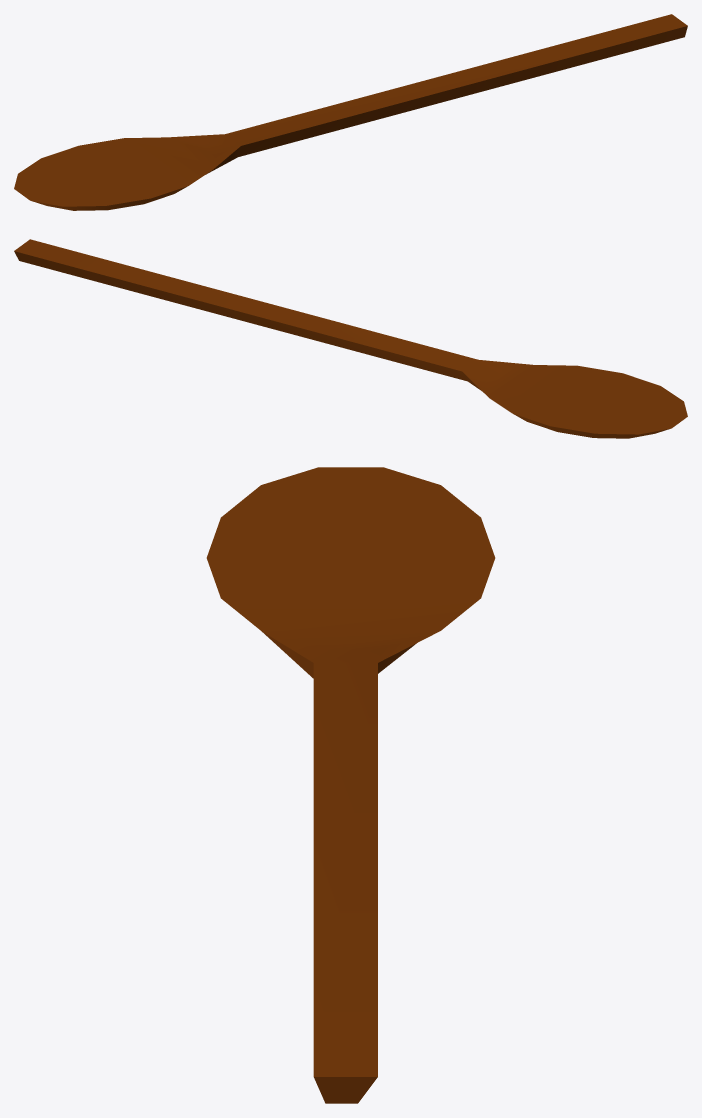
The model's file is Cuchara_Buena.fbx.
The picture shows the model from 3 angles, top to bottom: view 1: azimuth 30°, elevation 25°; view 2: azimuth 150°, elevation 25°; view 3: azimuth 270°, elevation 25°; orthographic projection. The views are drawn at different scales.
Parts seen in each view (by area): view 1: Object025; view 2: Object025; view 3: Object025.
Boxes of the visible parts, x1,y1,x2,y2 form: Object025: [14, 14, 687, 210]; Object025: [14, 239, 687, 438]; Object025: [206, 467, 495, 1103].
Bounding box in the file's own units: 26.69 × 1.03 × 5.08.
